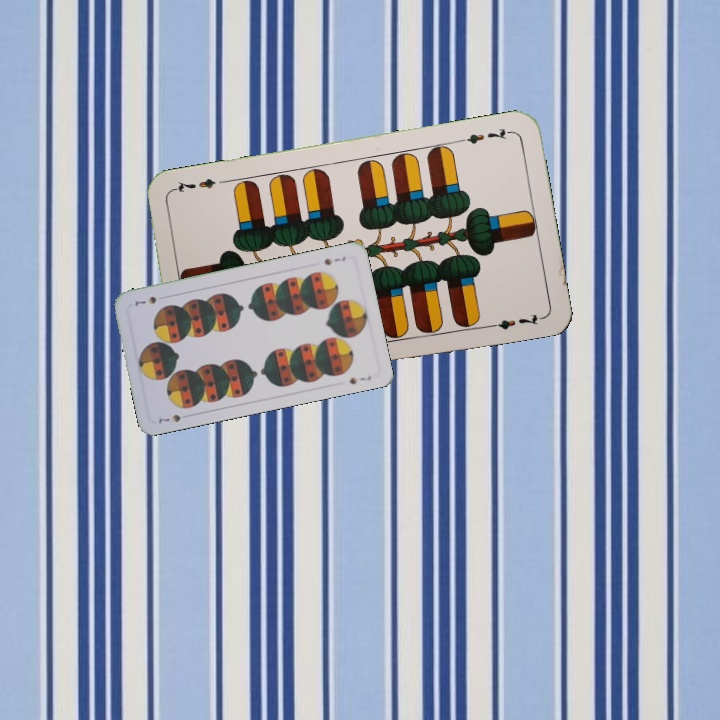E7: (456, 124, 515, 147)
S7: (154, 410, 183, 426), (320, 252, 348, 268)
